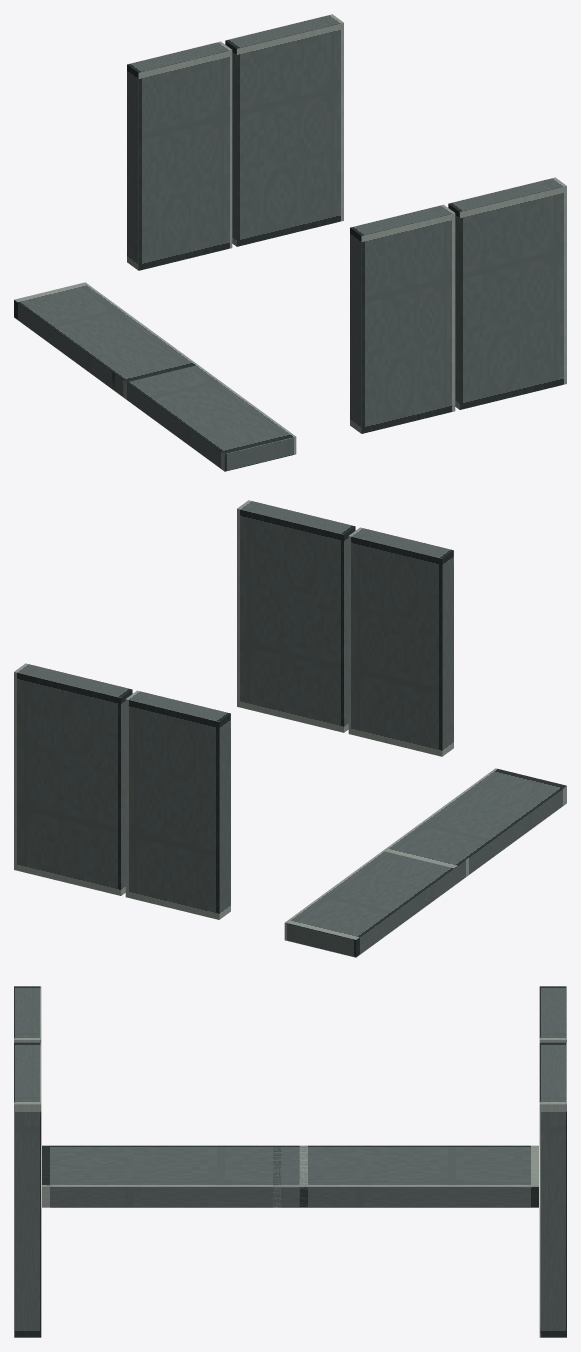
Rendered from bench_leggings_1.obj.
3 renders of one model, top to bottom at view 1: azimuth 30°, elevation 25°; view 2: azimuth 150°, elevation 25°; view 3: azimuth 270°, elevation 25°, orthographic. The views are drawn at different scales.
Visible parts, largest first — view 1: geometry; view 2: geometry; view 3: geometry.
Part boxes in pixels (x1,y1,x2,y2): geometry: [14, 14, 566, 471]; geometry: [14, 500, 566, 957]; geometry: [14, 986, 566, 1337].
Bounding box in the file's own units: 0.4039 × 0.25 × 0.4967.
